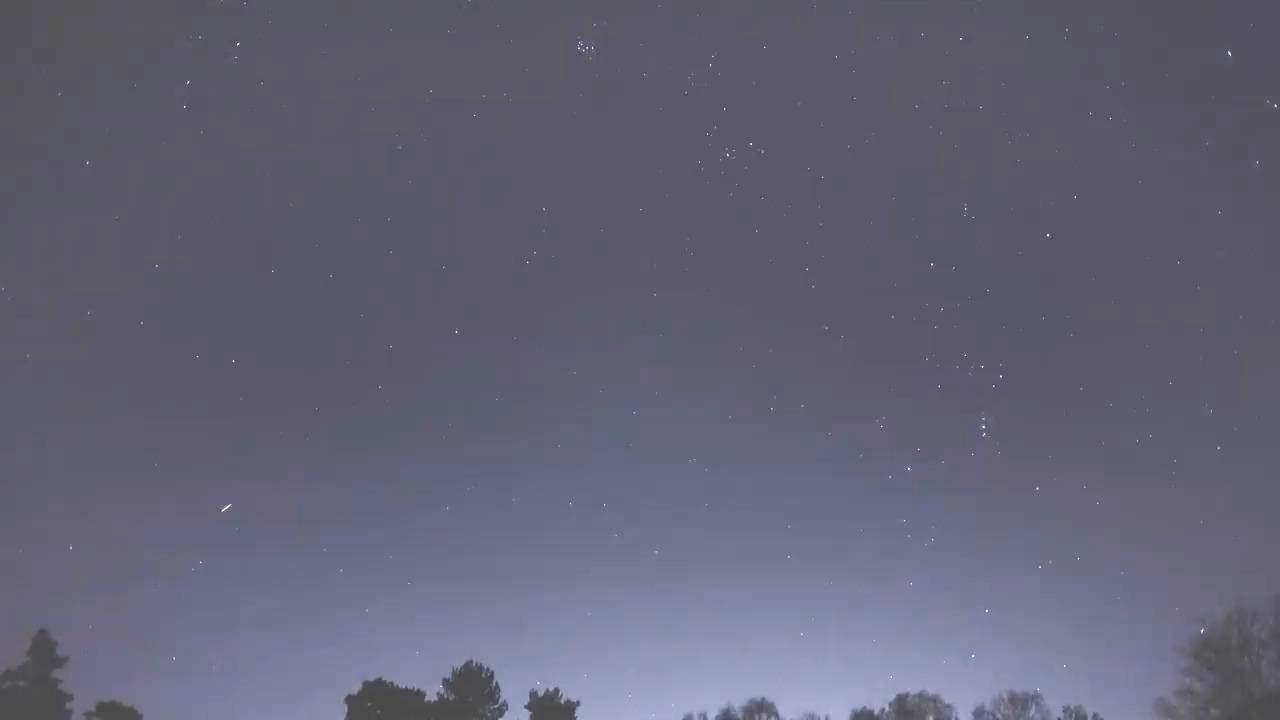meteorite: (208, 497, 246, 517)
